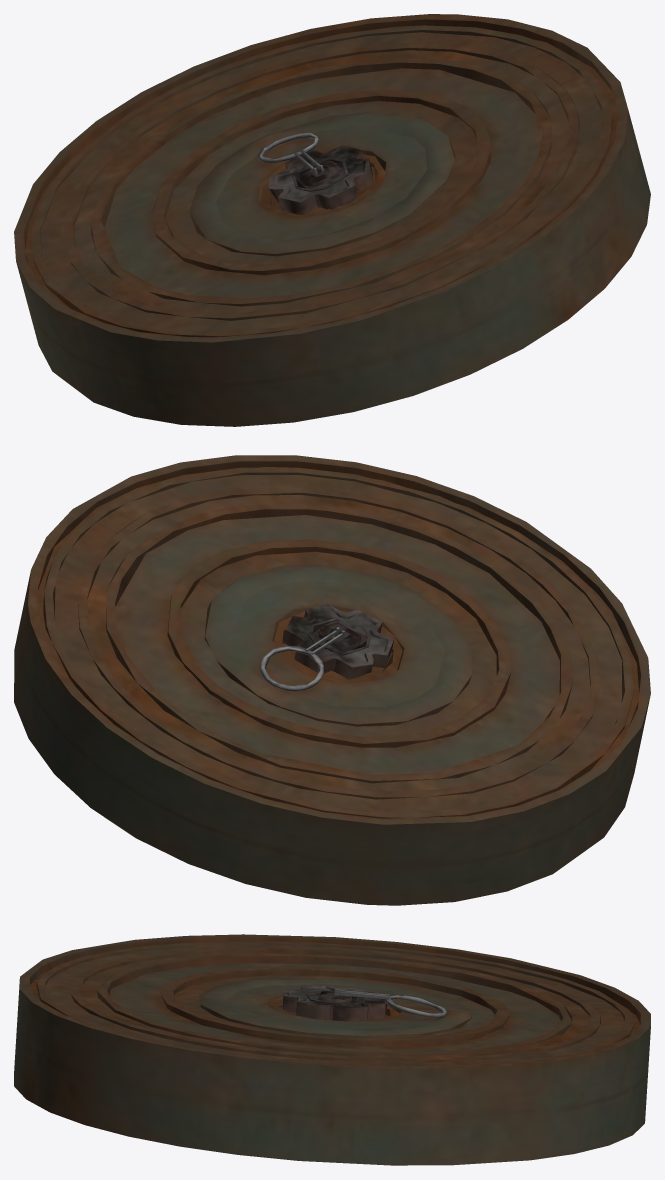
File: mine.glb
The picture shows the model from 3 angles, top to bottom: view 1: azimuth 30°, elevation 25°; view 2: azimuth 150°, elevation 25°; view 3: azimuth 270°, elevation 25°; orthographic projection.
Visible parts, largest first — view 1: m; view 2: m; view 3: m.
Boxes of the visible parts, bbox=[...] form: m: bbox=[14, 14, 650, 426]; m: bbox=[14, 455, 650, 905]; m: bbox=[14, 934, 650, 1165].
Bounding box in the file's own units: 0.319 × 0.1232 × 0.318.
3 materials, 3 textured.
